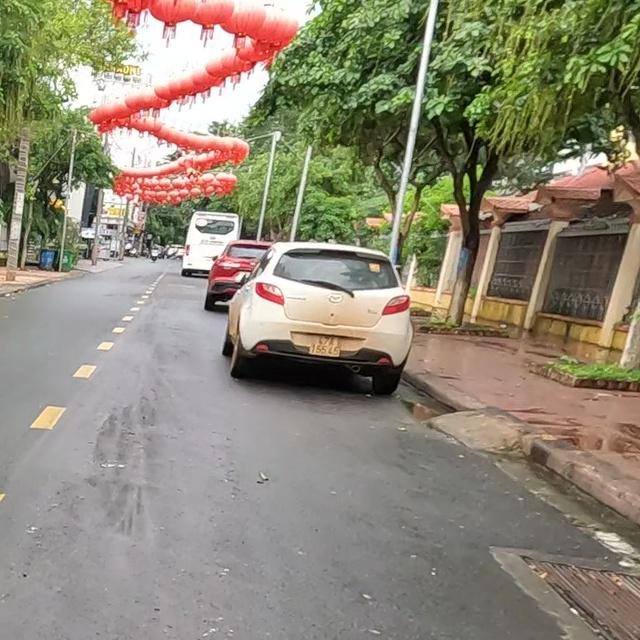license-plate: (310, 336, 342, 356)
